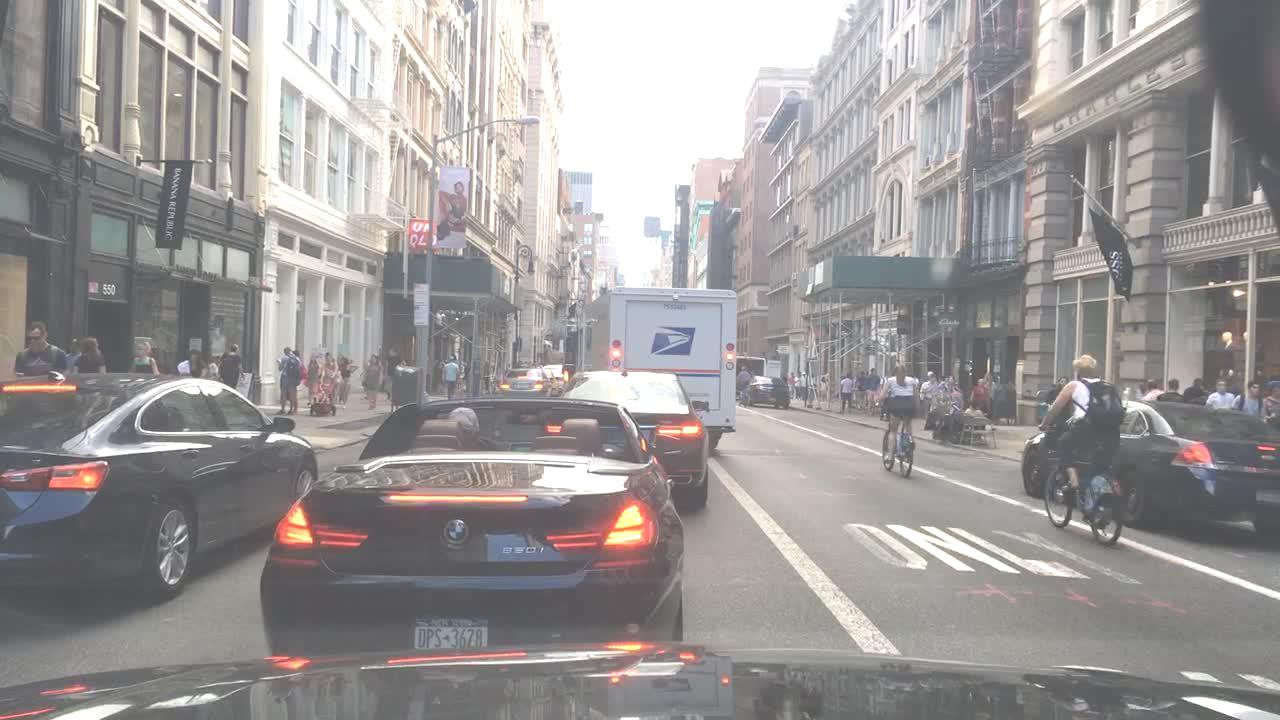bmw: (440, 510, 479, 551)
